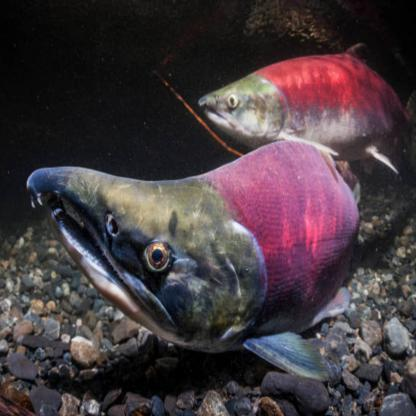sockeye: (20, 142, 352, 372), (203, 36, 416, 146)
